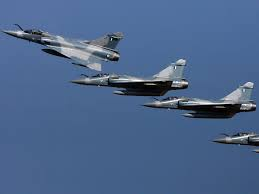fighter: (3, 20, 123, 75), (68, 58, 190, 98), (141, 81, 257, 120), (208, 127, 259, 153)
